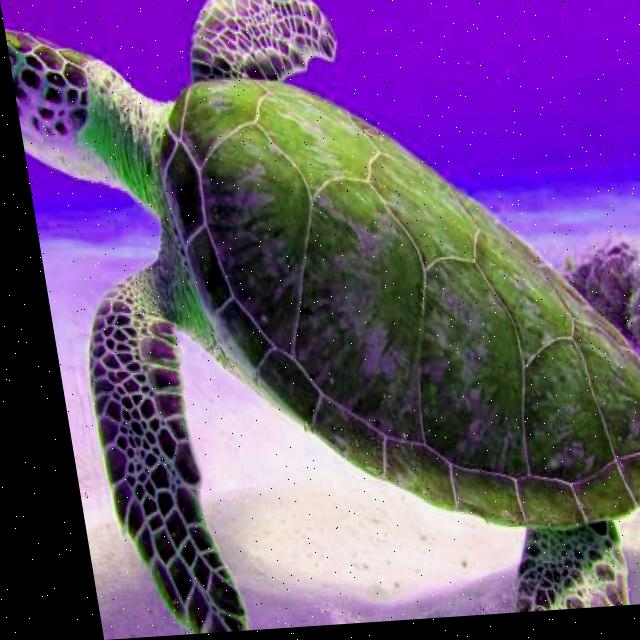sea turtle: (150, 43, 640, 508), (32, 242, 252, 640), (0, 0, 169, 188), (154, 0, 355, 82), (472, 527, 620, 619), (609, 465, 640, 608)
